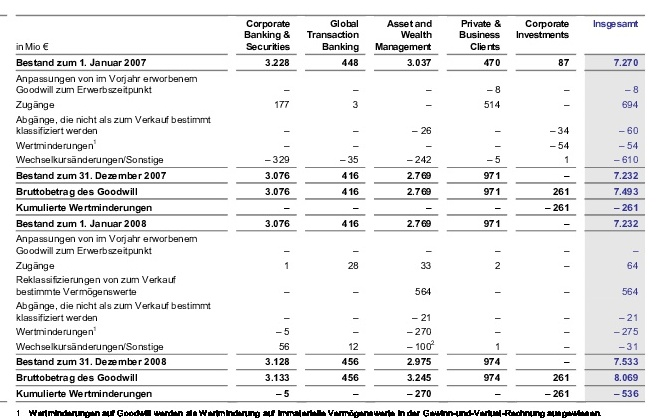table: (0, 0, 667, 420)
